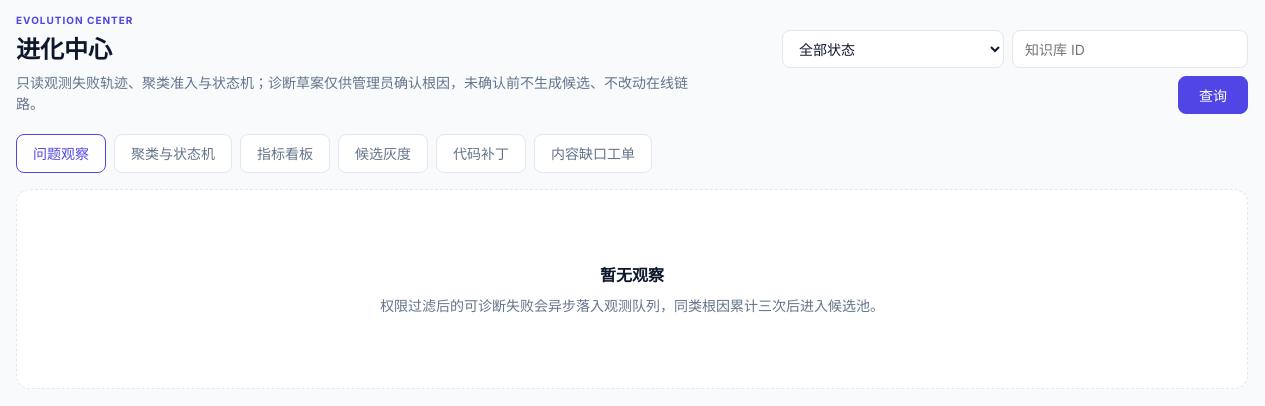
Test case: EvolutionCenterView candidate rollout › lists candidates with target, status, confidence and canary percentage
The image size is (1265, 406).
Click the button with test id "tab-candidates": (383, 154) 338,134 -> 428,173
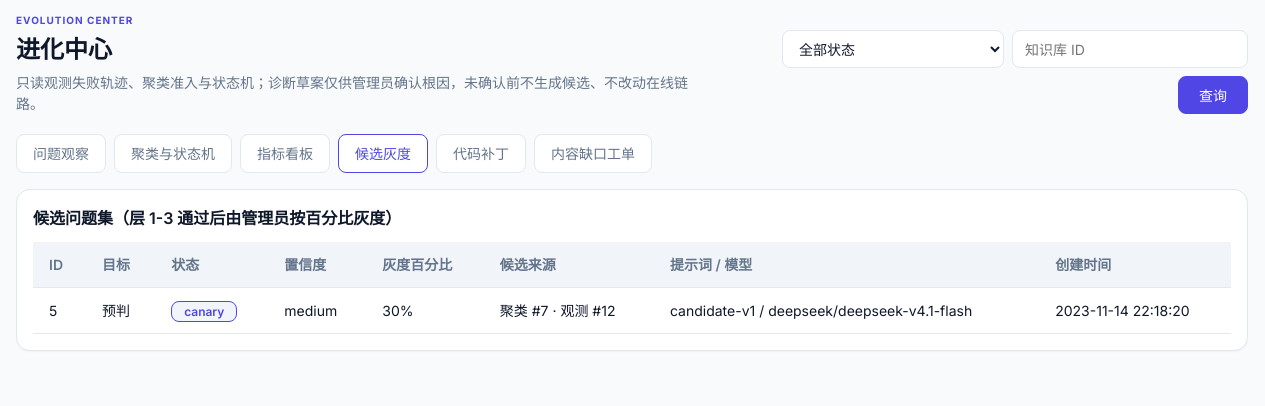
Expected: the row with test id "candidate-row" shows "预判", 102,302 -> 130,319
Expected: the row with test id "candidate-row" shows "canary", 184,304 -> 224,319
Expected: the row with test id "candidate-row" shows "medium", 284,302 -> 337,319
